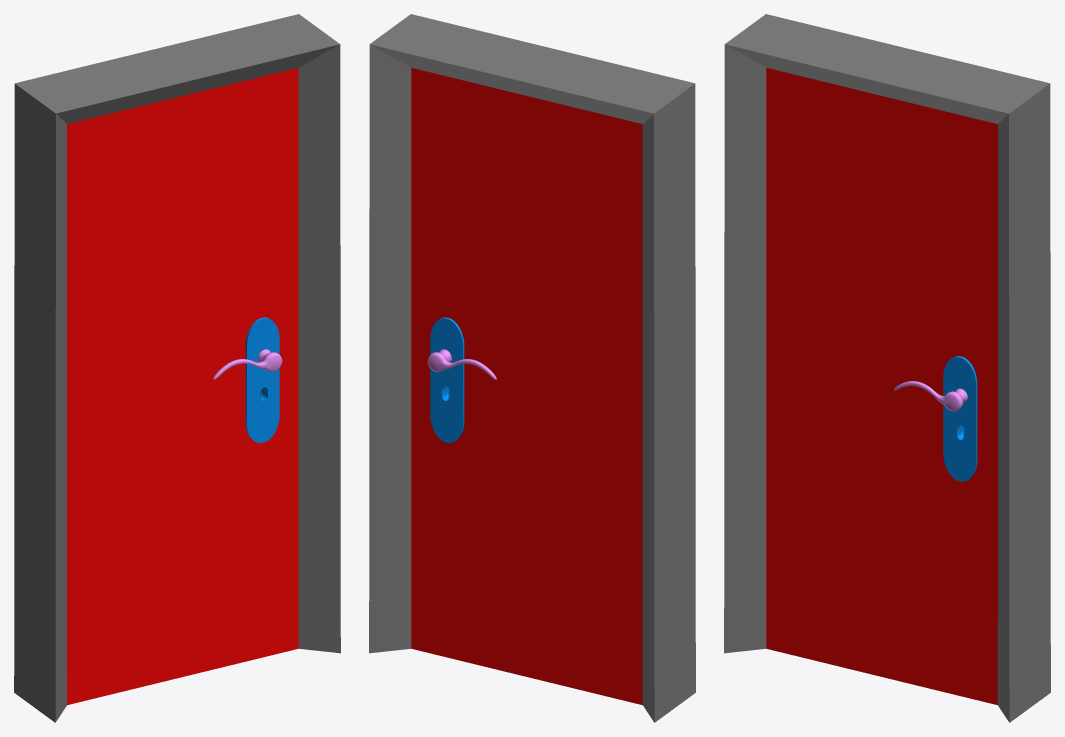
File: Door.fbx
The picture shows the model from 3 angles, left to right: view 1: azimuth 30°, elevation 25°; view 2: azimuth 150°, elevation 25°; view 3: azimuth 330°, elevation 25°; orthographic projection.
Visible parts, largest first — view 1: porte; view 2: porte; view 3: porte.
Boxes of the visible parts, bbox=[...] form: porte: bbox=[14, 14, 340, 722]; porte: bbox=[369, 14, 695, 722]; porte: bbox=[724, 14, 1050, 722].
Bounding box in the file's own units: 111 × 226 × 27.85.
